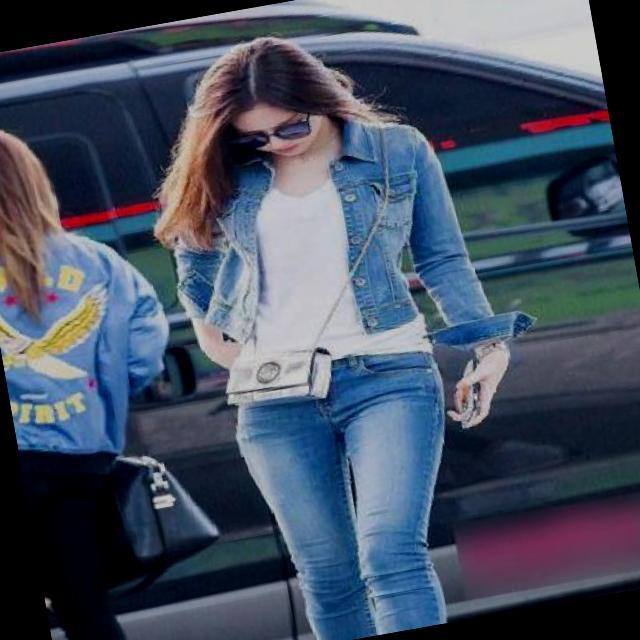Person: (159, 0, 500, 634)
